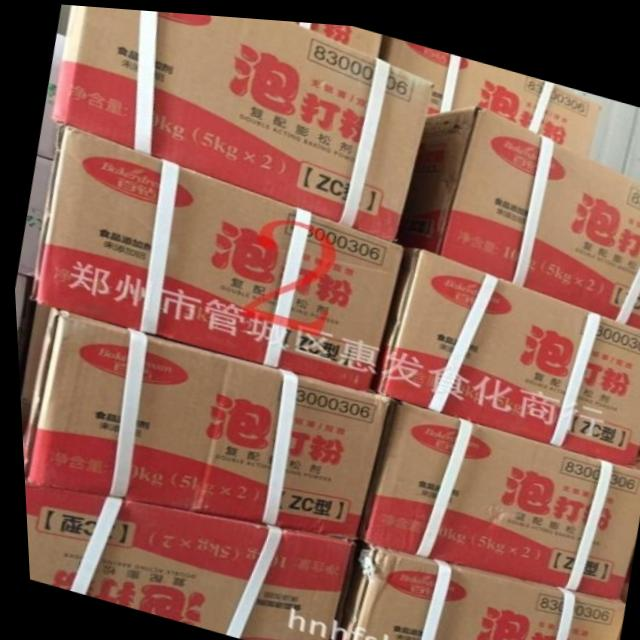box: (26, 119, 402, 388), (49, 4, 434, 236), (18, 306, 386, 536), (365, 239, 640, 459), (351, 390, 640, 591), (392, 97, 640, 319), (20, 484, 351, 640), (327, 535, 618, 640), (376, 28, 601, 150), (292, 17, 381, 53)
